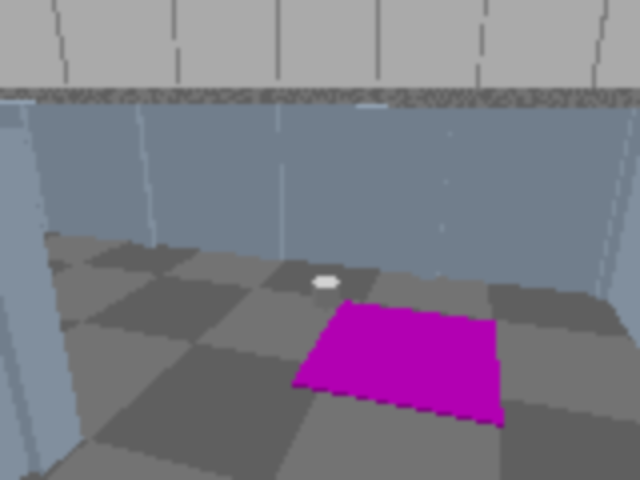goal_zone: (291, 301, 503, 427)
puck: (311, 277, 339, 310)
